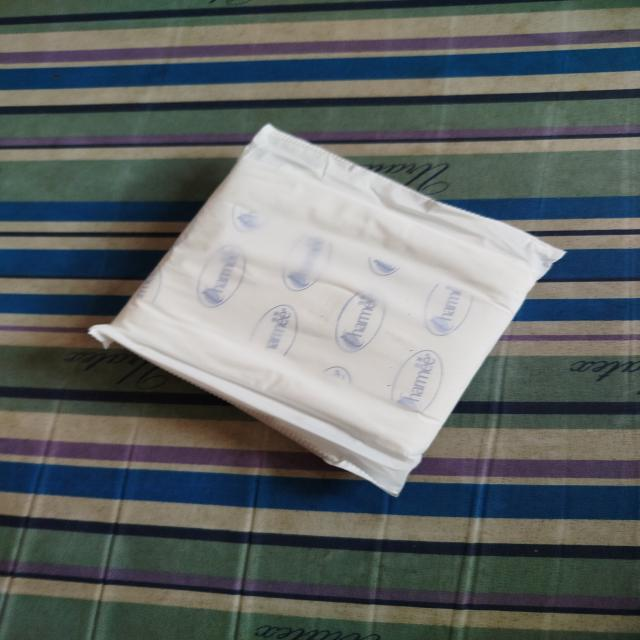residual: (70, 108, 572, 531)
